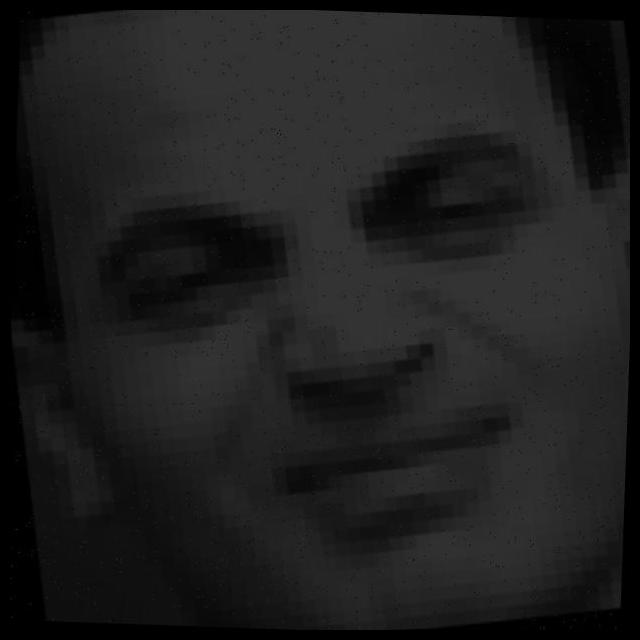Disgust: (70, 115, 590, 544)
